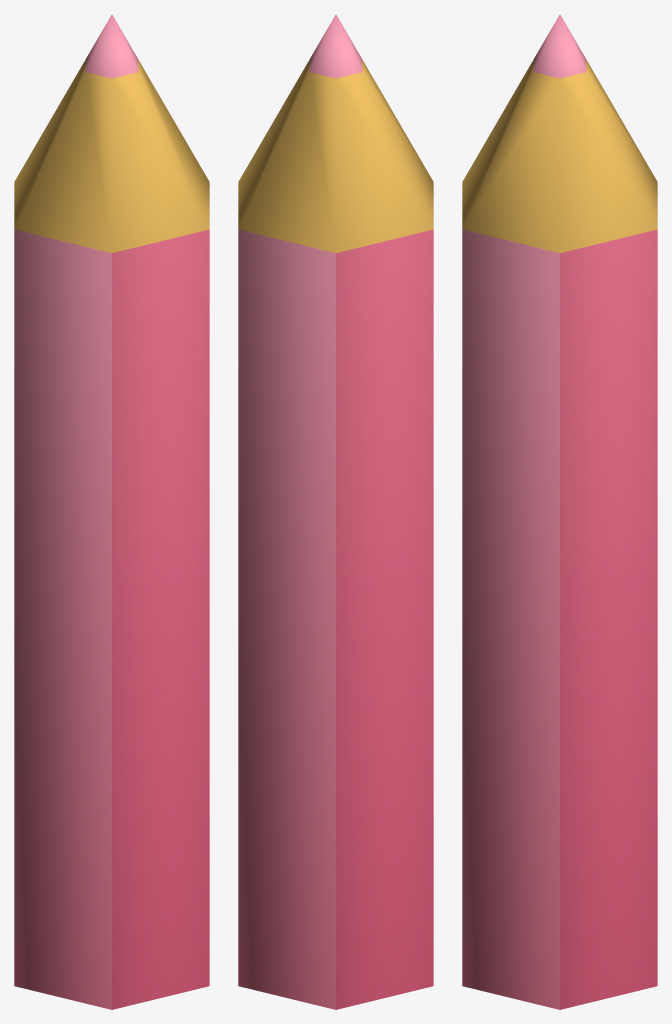
File: SM_Pencil02.fbx
The picture shows the model from 3 angles, left to right: view 1: azimuth 30°, elevation 25°; view 2: azimuth 150°, elevation 25°; view 3: azimuth 270°, elevation 25°; orthographic projection.
Parts seen in each view (by area): view 1: SM_Pencil02; view 2: SM_Pencil02; view 3: SM_Pencil02.
Boxes of the visible parts, x1,y1,x2,y2 form: SM_Pencil02: (14,14,209,1009); SM_Pencil02: (238,14,433,1009); SM_Pencil02: (462,14,657,1009).
Bounding box in the file's own units: 8 × 37.15 × 6.93.
